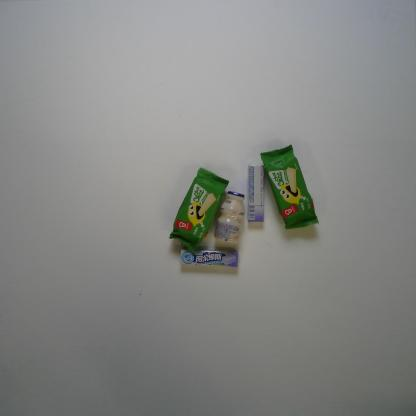Candy: (181, 249, 238, 268), (247, 164, 264, 223)
Dessert: (168, 166, 230, 254), (260, 144, 320, 229)
Milk: (214, 191, 245, 243)
